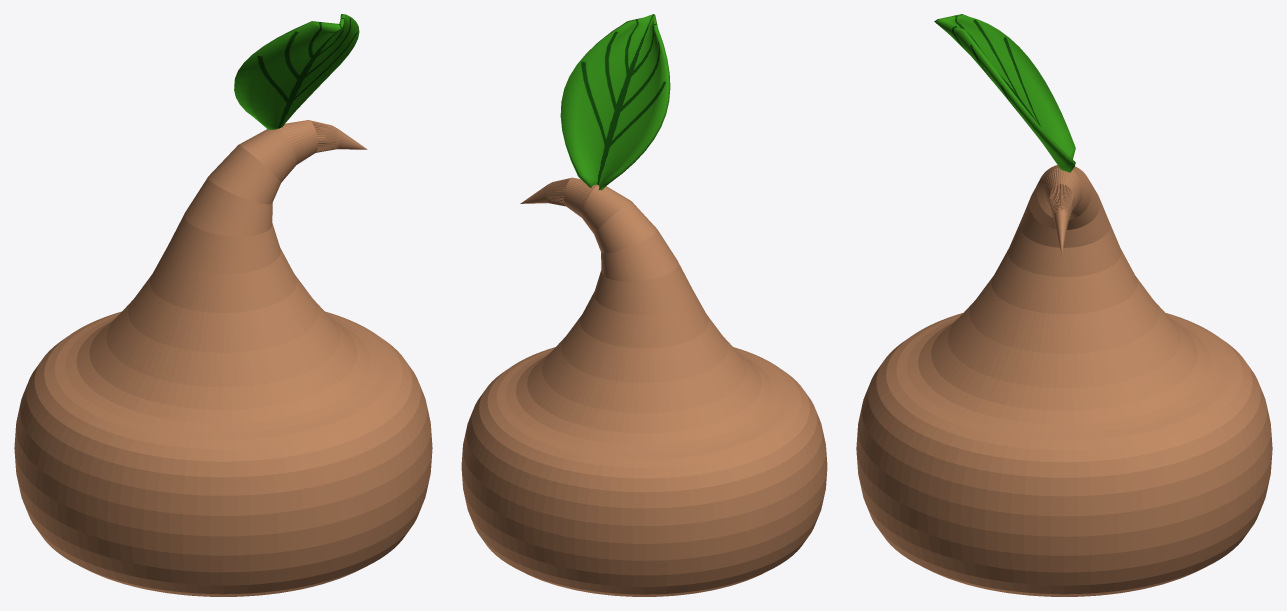
File: head_var_hat-a.glb
3 views of the same model, side by side, from view 1: azimuth 30°, elevation 25°; view 2: azimuth 150°, elevation 25°; view 3: azimuth 270°, elevation 25° (orthographic). The views are drawn at different scales.
Visible parts, largest first — view 1: tmp_head_01; view 2: tmp_head_01; view 3: tmp_head_01.
Boxes of the visible parts, x1,y1,x2,y2 form: tmp_head_01: (14, 14, 432, 596); tmp_head_01: (461, 14, 827, 596); tmp_head_01: (856, 14, 1272, 596).
Bounding box in the file's own units: 1.07 × 1.52 × 1.07.
Materials: 2 (1 with a texture image).
